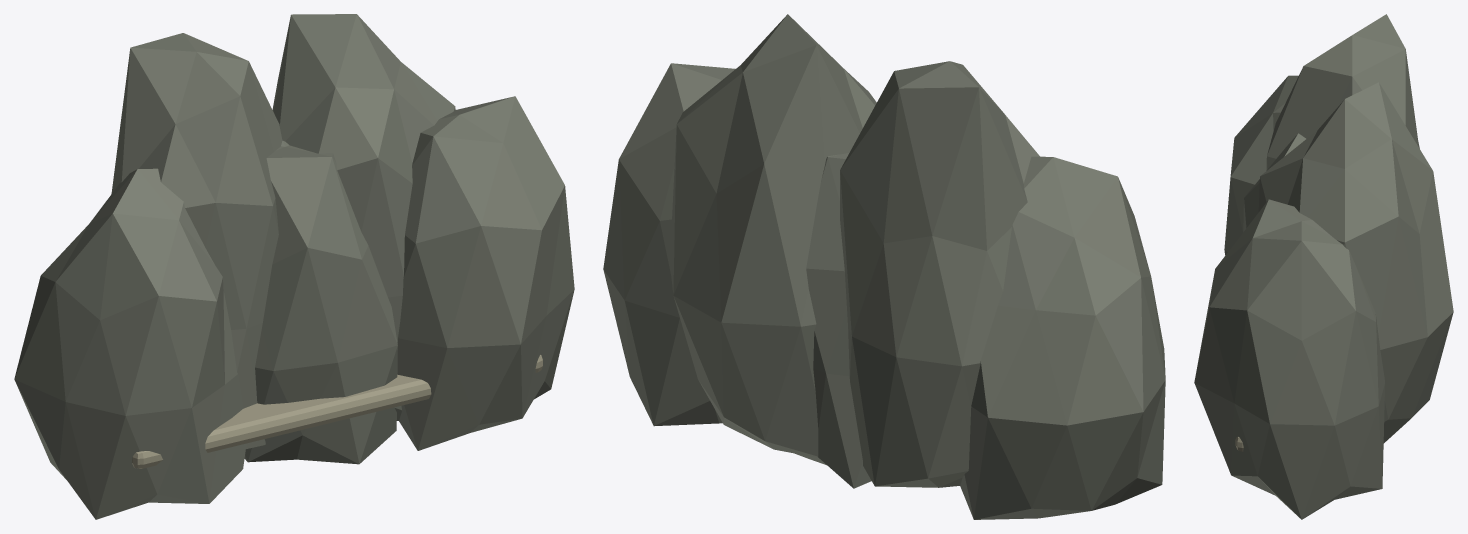
Rendered from cliff.glb.
3 views of the same model, side by side, from view 1: azimuth 30°, elevation 25°; view 2: azimuth 150°, elevation 25°; view 3: azimuth 270°, elevation 25° (orthographic). The views are drawn at different scales.
Parts seen in each view (by area): view 1: Limestone, Stone ledges; view 2: Limestone; view 3: Limestone.
Part boxes in pixels (x1,y1,x2,y2): Limestone: (14,14,574,519); Stone ledges: (132,355,542,468); Limestone: (603,14,1165,519); Limestone: (1194,14,1453,519).
Bounding box in the file's own units: 4.5 × 3.32 × 2.24.
